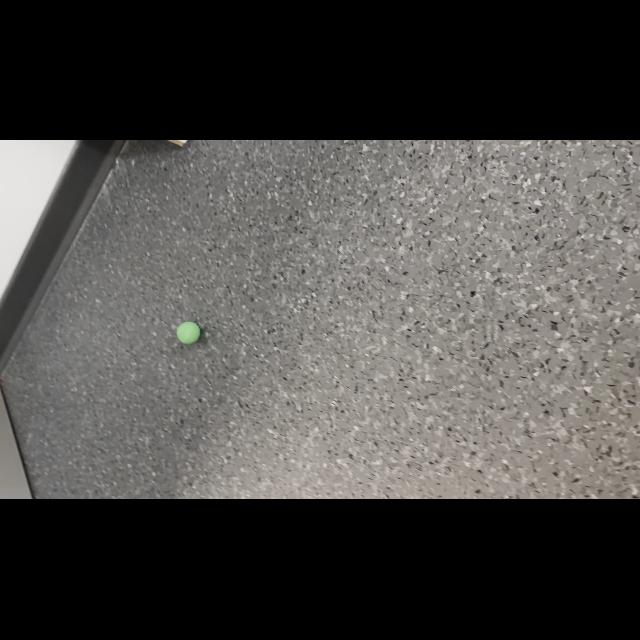objects: (173, 317, 203, 347)
